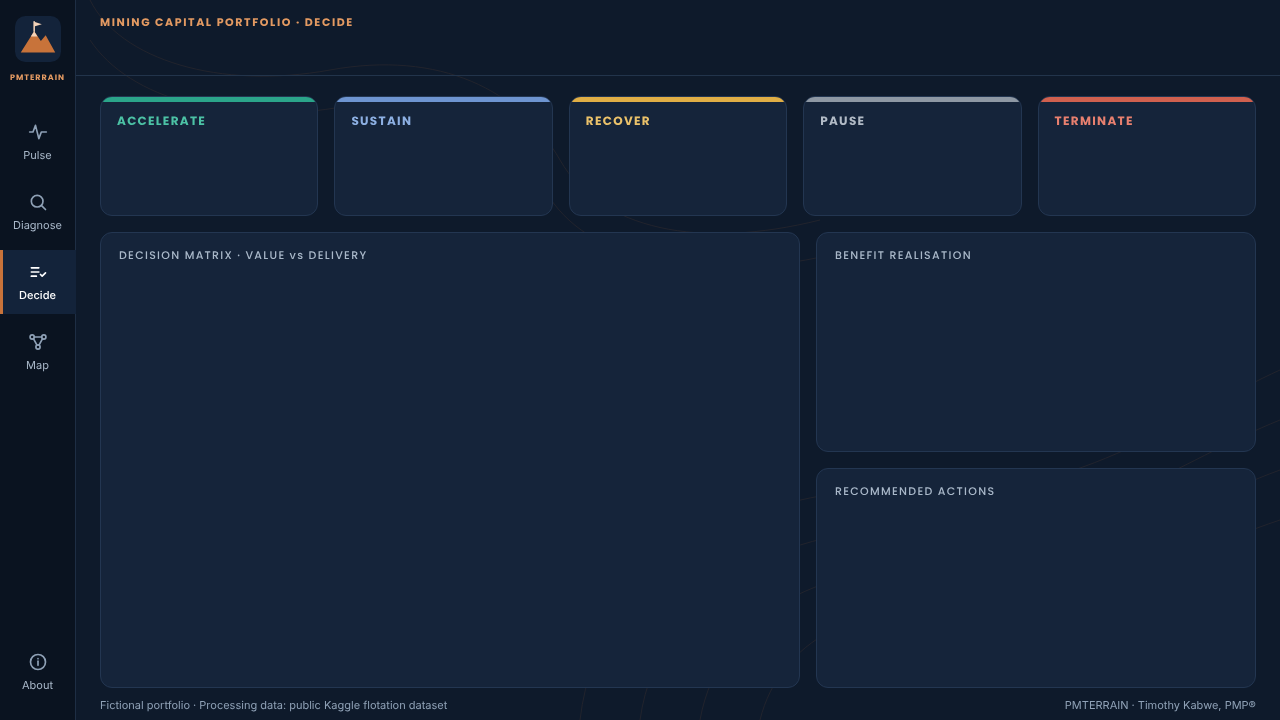

What the dashboard file says about the page in this screenshot:
{"tool":"powerbi","page":{"name":"Decide","canvas":[1280,720],"ordinal":2},"visuals":[{"type":"tableEx","fields":{"Values":["Dim_Project.ProjectName","Dim_Project.Decision","Key_MeasuresPMO.Action"]},"box":[828,494,416,184],"z":0},{"type":"cardVisual","fields":{"Data":["Key_MeasuresPMO.Projects"]},"box":[1048,126,203,84],"z":1000},{"type":"cardVisual","fields":{"Data":["Key_MeasuresPMO.Projects"]},"box":[813,126,203,84],"z":2000},{"type":"cardVisual","fields":{"Data":["Key_MeasuresPMO.Projects"]},"box":[578,126,203,84],"z":3000},{"type":"cardVisual","fields":{"Data":["Key_MeasuresPMO.Projects"]},"box":[343,126,203,84],"z":4000},{"type":"cardVisual","fields":{"Data":["Key_MeasuresPMO.Projects"]},"box":[108,126,203,84],"z":5000},{"type":"scatterChart","title":"15 live projects: 3 to accelerate, 3 to stop or re-scope","fields":{"Category":["Dim_Project.ProjectName"],"Series":["Dim_Project.Decision"],"Size":["Sum(Dim_Project.PlannedBenefit_USD)"],"X":["Key_MeasuresPMO.Delivery Index"],"Y":["Key_MeasuresPMO.Value Score"]},"box":[112,256,676,420],"z":6000},{"type":"clusteredColumnChart","title":"Flotation upgrade cut silica by 15% after go-live","fields":{"Category":["Fact_ProcessingDaily.PeriodVsGoLive"],"Y":["Key_MeasuresPMO.Avg Silica %"]},"box":[828,258,416,184],"z":7000},{"type":"actionButton","box":[0,110,76,64],"z":8000},{"type":"actionButton","box":[0,180,76,64],"z":9000},{"type":"actionButton","box":[0,250,76,64],"z":10000},{"type":"actionButton","box":[0,640,76,64],"z":11000},{"type":"slicer","fields":{"Values":["Dim_Project.Programme"]},"box":[1062,14,190,50],"z":12000},{"type":"slicer","fields":{"Values":["Dim_Site.SiteName"]},"box":[856,14,190,50],"z":13000},{"type":"actionButton","box":[0,320,76,64],"z":14000},{"type":"actionButton","box":[520,40,190,28],"z":14001}]}

Visuals, with their boxes on the page's 1280x720 design canvas (x1, y1, x2, y2). These are canvas units, not pixel positions in the 1280x720 screenshot, which may show the page scaled, cropped or inside an application window:
tableEx - Dim_Project.ProjectName x Dim_Project.Decision: (828, 494, 1244, 678)
cardVisual - Key_MeasuresPMO.Projects: (1048, 126, 1251, 210)
cardVisual - Key_MeasuresPMO.Projects: (813, 126, 1016, 210)
cardVisual - Key_MeasuresPMO.Projects: (578, 126, 781, 210)
cardVisual - Key_MeasuresPMO.Projects: (343, 126, 546, 210)
cardVisual - Key_MeasuresPMO.Projects: (108, 126, 311, 210)
"15 live projects: 3 to accelerate, 3 to stop or re-scope" scatterChart: (112, 256, 788, 676)
"Flotation upgrade cut silica by 15% after go-live" clusteredColumnChart: (828, 258, 1244, 442)
actionButton: (0, 110, 76, 174)
actionButton: (0, 180, 76, 244)
actionButton: (0, 250, 76, 314)
actionButton: (0, 640, 76, 704)
slicer - Dim_Project.Programme: (1062, 14, 1252, 64)
slicer - Dim_Site.SiteName: (856, 14, 1046, 64)
actionButton: (0, 320, 76, 384)
actionButton: (520, 40, 710, 68)
